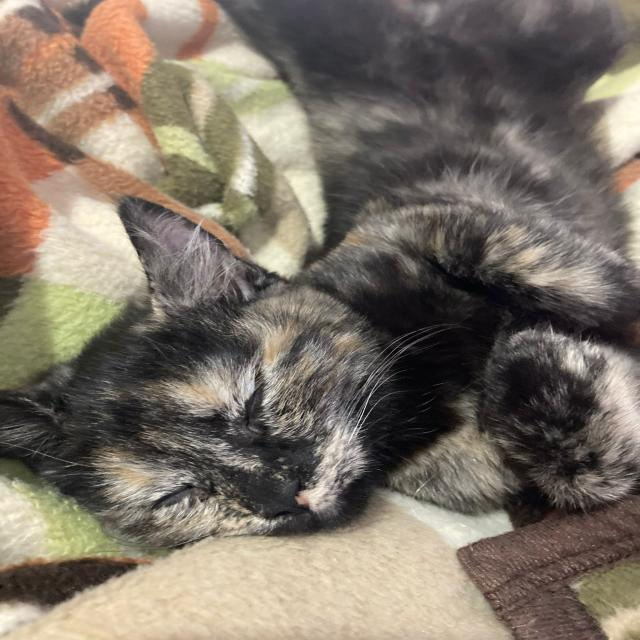authorized: (1, 1, 639, 556)
